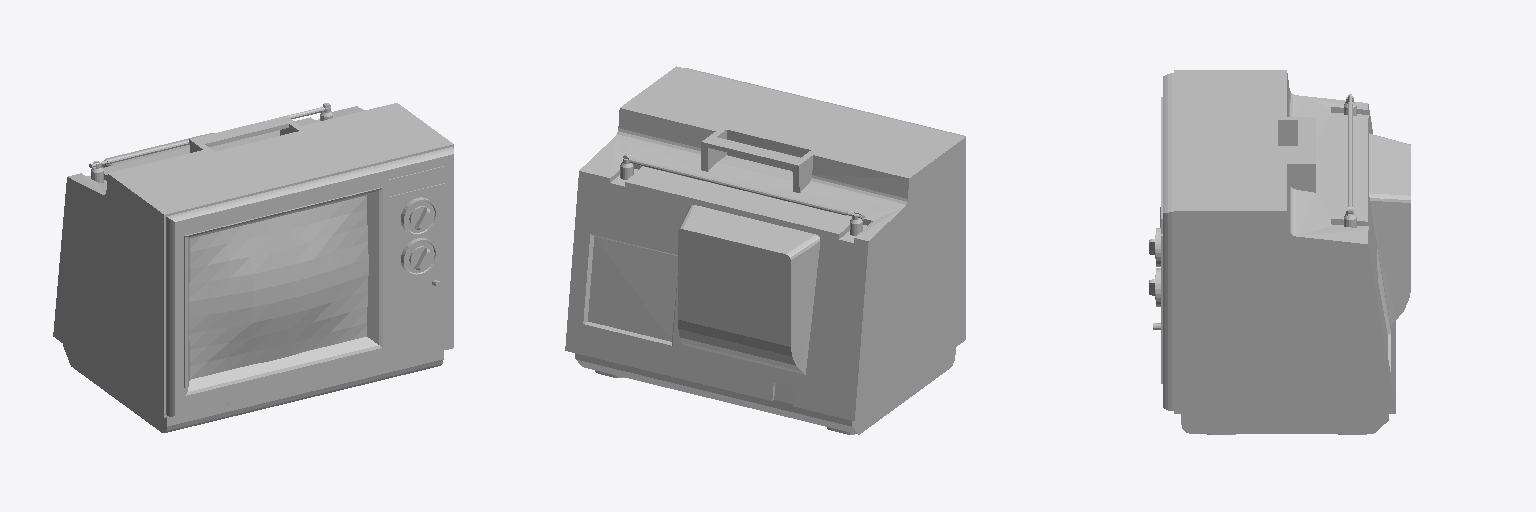
File: Television_01.obj
The picture shows the model from 3 angles: view 1: azimuth 30°, elevation 25°; view 2: azimuth 150°, elevation 25°; view 3: azimuth 270°, elevation 25°; orthographic projection.
Parts seen in each view (by area): view 1: Television_01_Cube.021; view 2: Television_01_Cube.021; view 3: Television_01_Cube.021.
Boxes of the visible parts, <box> form: Television_01_Cube.021: <box>53,103,453,432</box>; Television_01_Cube.021: <box>565,66,965,434</box>; Television_01_Cube.021: <box>1149,70,1410,434</box>.
Size of the model in its own units: 0.6 by 0.4568 by 0.4708.